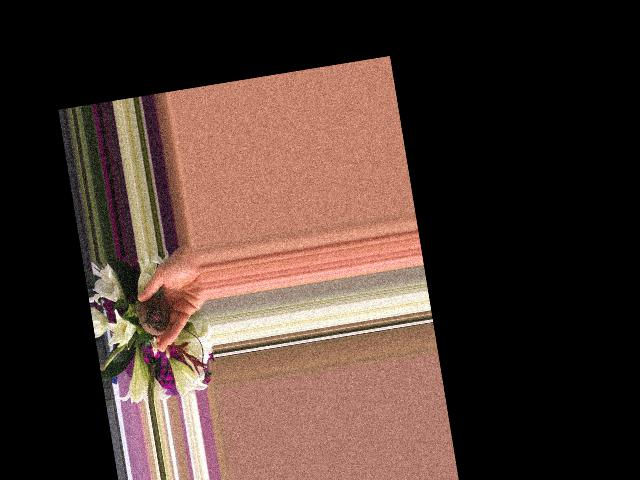beet: (135, 294, 174, 338)
